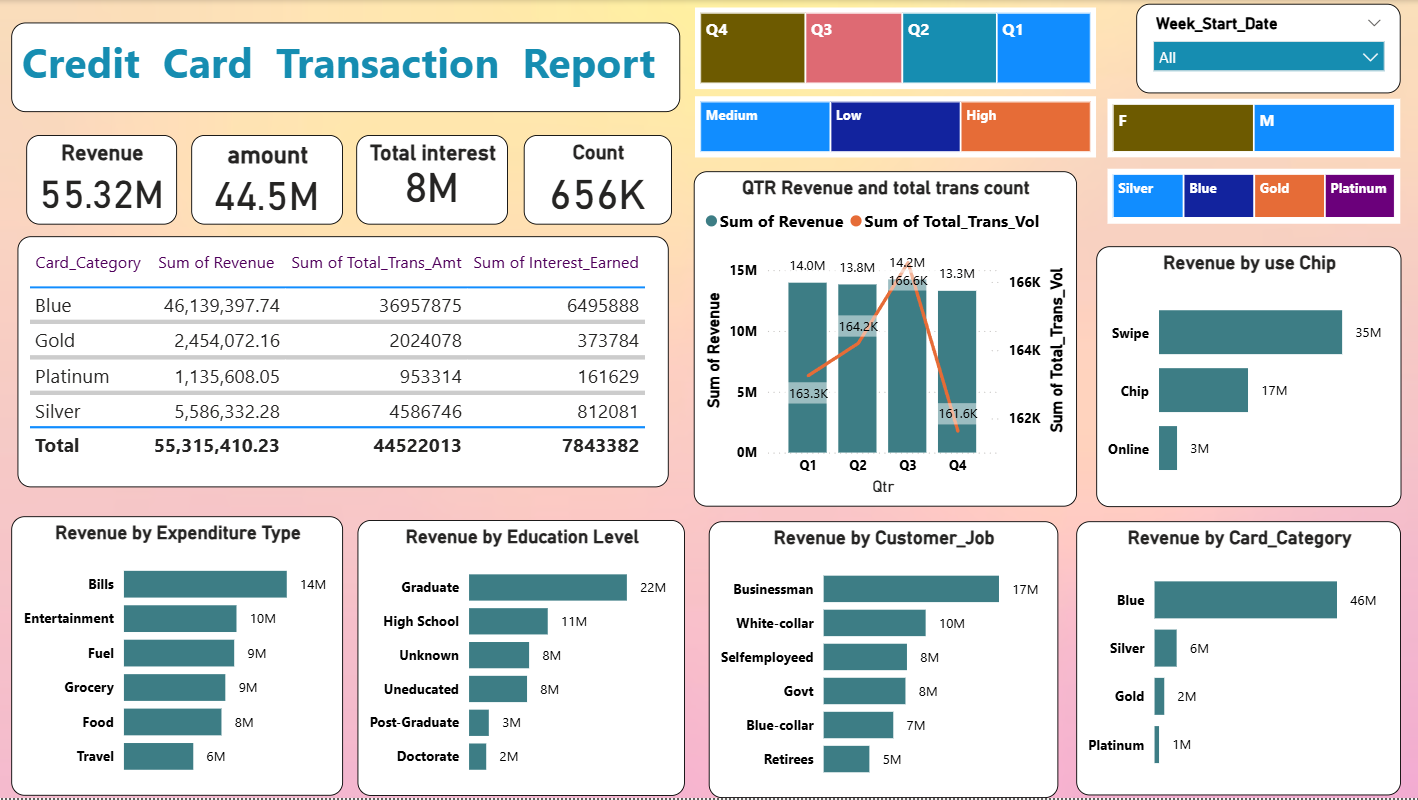

What the dashboard file says about the page in this screenshot:
{"tool":"powerbi","page":{"name":"Credit Card Transaction","canvas":[1280,720],"ordinal":0},"visuals":[{"type":"textbox","box":[9.8,20.8,602.9,80.7],"z":0},{"type":"lineStackedColumnComboChart","title":"QTR Revenue and total trans count","fields":{"Category":["Public_cc_detail.Qtr"],"Y":["Sum(Public_cc_detail.Revenue)"],"Y2":["Sum(Public_cc_detail.Total_Trans_Vol)"]},"box":[625.6,154.7,345.3,302.3],"z":1000},{"type":"barChart","title":"Revenue by Expenditure Type","fields":{"Y":["Sum(Public_cc_detail.Revenue)"],"Category":["Public_cc_detail.Exp Type"]},"box":[9.7,465.7,299.2,252.1],"z":2000},{"type":"barChart","title":"Revenue by Education Level ","fields":{"Y":["Sum(Public_cc_detail.Revenue)"],"Category":["Public_cust_detail.Education_Level"]},"box":[322.1,469.3,295.6,248.5],"z":3000},{"type":"barChart","title":"Revenue by Customer_Job","fields":{"Y":["Sum(Public_cc_detail.Revenue)"],"Category":["Public_cust_detail.Customer_Job"]},"box":[639.4,470.5,314.9,249.7],"z":4000},{"type":"barChart","title":"Revenue by Card_Category","fields":{"Y":["Sum(Public_cc_detail.Revenue)"],"Category":["Public_cc_detail.Card_Category"]},"box":[970,470.5,293.2,247.3],"z":5000},{"type":"barChart","title":"Revenue by use Chip","fields":{"Y":["Sum(Public_cc_detail.Revenue)"],"Category":["Public_cc_detail.Use Chip"]},"box":[988.1,222,275.1,235.3],"z":6000},{"type":"tableEx","fields":{"Values":["Public_cc_detail.Card_Category","Sum(Public_cc_detail.Revenue)","Sum(Public_cc_detail.Total_Trans_Amt)","Sum(Public_cc_detail.Interest_Earned)"]},"box":[15.9,212.8,587,226.2],"z":7000},{"type":"card","title":"Revenue","fields":{"Values":["Sum(Public_cc_detail.Revenue)"]},"box":[23.2,122.3,135.7,80.7],"z":8000},{"type":"card","title":"amount","fields":{"Values":["Sum(Public_cc_detail.Total_Trans_Amt)"]},"box":[172.4,122.3,137,80.7],"z":9000},{"type":"card","title":"Total interest","fields":{"Values":["Sum(Public_cc_detail.Interest_Earned)"]},"box":[321.6,122.3,137,80.7],"z":10000},{"type":"card","title":"Count","fields":{"Values":["Sum(Public_cc_detail.Total_Trans_Vol)"]},"box":[472,122.3,133.3,80.7],"z":11000},{"type":"slicer","fields":{"Values":["Public_cc_detail.Week_Start_Date"]},"box":[1024.7,3.7,238.5,80.7],"z":12000},{"type":"treemap","title":"Count of Client Num by Qtr","fields":{"Group":["Public_cc_detail.Qtr"],"Values":["Avg(Public_cc_detail.ï»¿Client_Num)"]},"box":[626.1,7.2,361.9,73.6],"z":13000},{"type":"treemap","title":"Count of Client Num by Qtr","fields":{"Values":["Avg(Public_cc_detail.ï»¿Client_Num)"],"Group":["Public_cust_detail.Gender"]},"box":[998.9,89.3,264.2,53.1],"z":14000},{"type":"treemap","title":"Count of Client Num by Qtr","fields":{"Values":["Avg(Public_cc_detail.ï»¿Client_Num)"],"Group":["Public_cc_detail.Card_Category"]},"box":[998.9,152,264.2,49.5],"z":15000},{"type":"treemap","title":"Count of Client Num by Qtr","fields":{"Values":["Avg(Public_cc_detail.ï»¿Client_Num)"],"Group":["Public_cust_detail.IncomeGroup"]},"box":[626.1,86.9,361.9,55.5],"z":16000}]}

Visuals, with their boxes in screenshot pixels (x1, y1, x2, y2), scaled from the page's 1280x720 canvas onto the 1418x800 screenshot:
textbox: bbox(11, 23, 679, 113)
"QTR Revenue and total trans count" lineStackedColumnComboChart: bbox(693, 172, 1076, 508)
"Revenue by Expenditure Type" barChart: bbox(11, 517, 342, 798)
"Revenue by Education Level " barChart: bbox(357, 521, 684, 798)
"Revenue by Customer_Job" barChart: bbox(708, 523, 1057, 799)
"Revenue by Card_Category" barChart: bbox(1075, 523, 1399, 798)
"Revenue by use Chip" barChart: bbox(1095, 247, 1399, 508)
tableEx - Public_cc_detail.Card_Category x Sum(Public_cc_detail.Revenue): bbox(18, 236, 668, 488)
"Revenue" card: bbox(26, 136, 176, 226)
"amount" card: bbox(191, 136, 343, 226)
"Total interest" card: bbox(356, 136, 508, 226)
"Count" card: bbox(523, 136, 671, 226)
slicer - Public_cc_detail.Week_Start_Date: bbox(1135, 4, 1399, 94)
"Count of Client Num by Qtr" treemap: bbox(694, 8, 1095, 90)
"Count of Client Num by Qtr" treemap: bbox(1107, 99, 1399, 158)
"Count of Client Num by Qtr" treemap: bbox(1107, 169, 1399, 224)
"Count of Client Num by Qtr" treemap: bbox(694, 97, 1095, 158)
